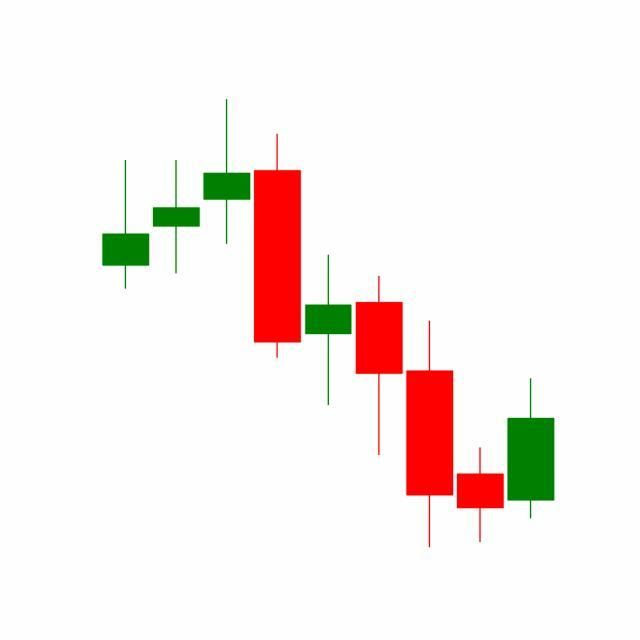Hikkake Pattern: (302, 251, 555, 548)
